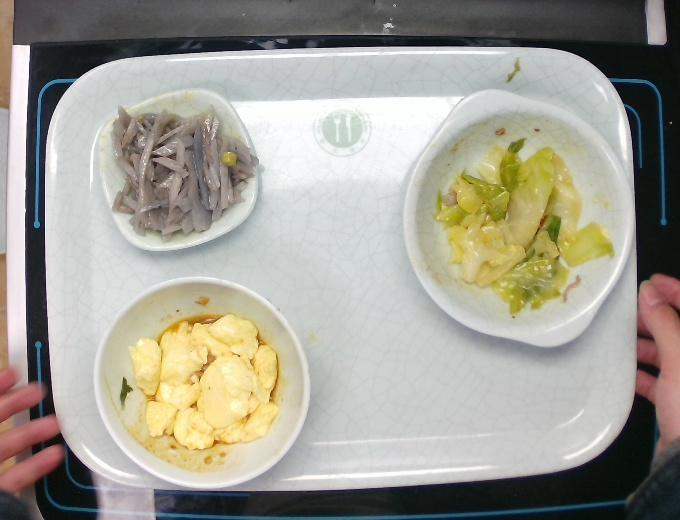JYsf-Fan_Wan: (91, 272, 315, 490)
JYsf-Shuang_Er_Wan: (400, 86, 638, 348)
JYsf-Si_Fang_Die: (95, 85, 262, 253)
